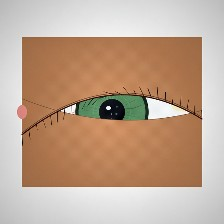pinguecula_lesion: (158, 85, 210, 126)
